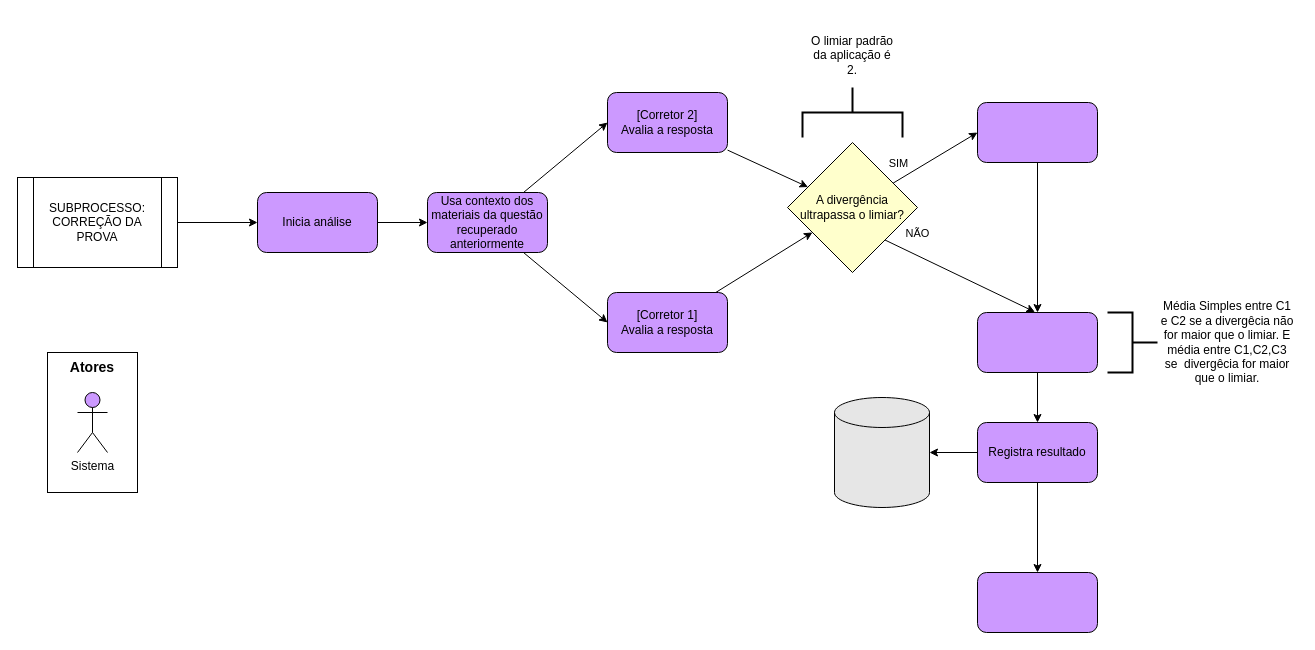
Some shapes in this 1315 by 650 pixel diagram are drawn without their labels. Each missing label, with the centre of its shape:
[Corretor 3] Avalia a resposta: the point at 1037,132
Consolida a nota: the point at 1037,342
PostegreSQL: the point at 882,452
Saída - Nota Final e Justificativa: the point at 1037,602
